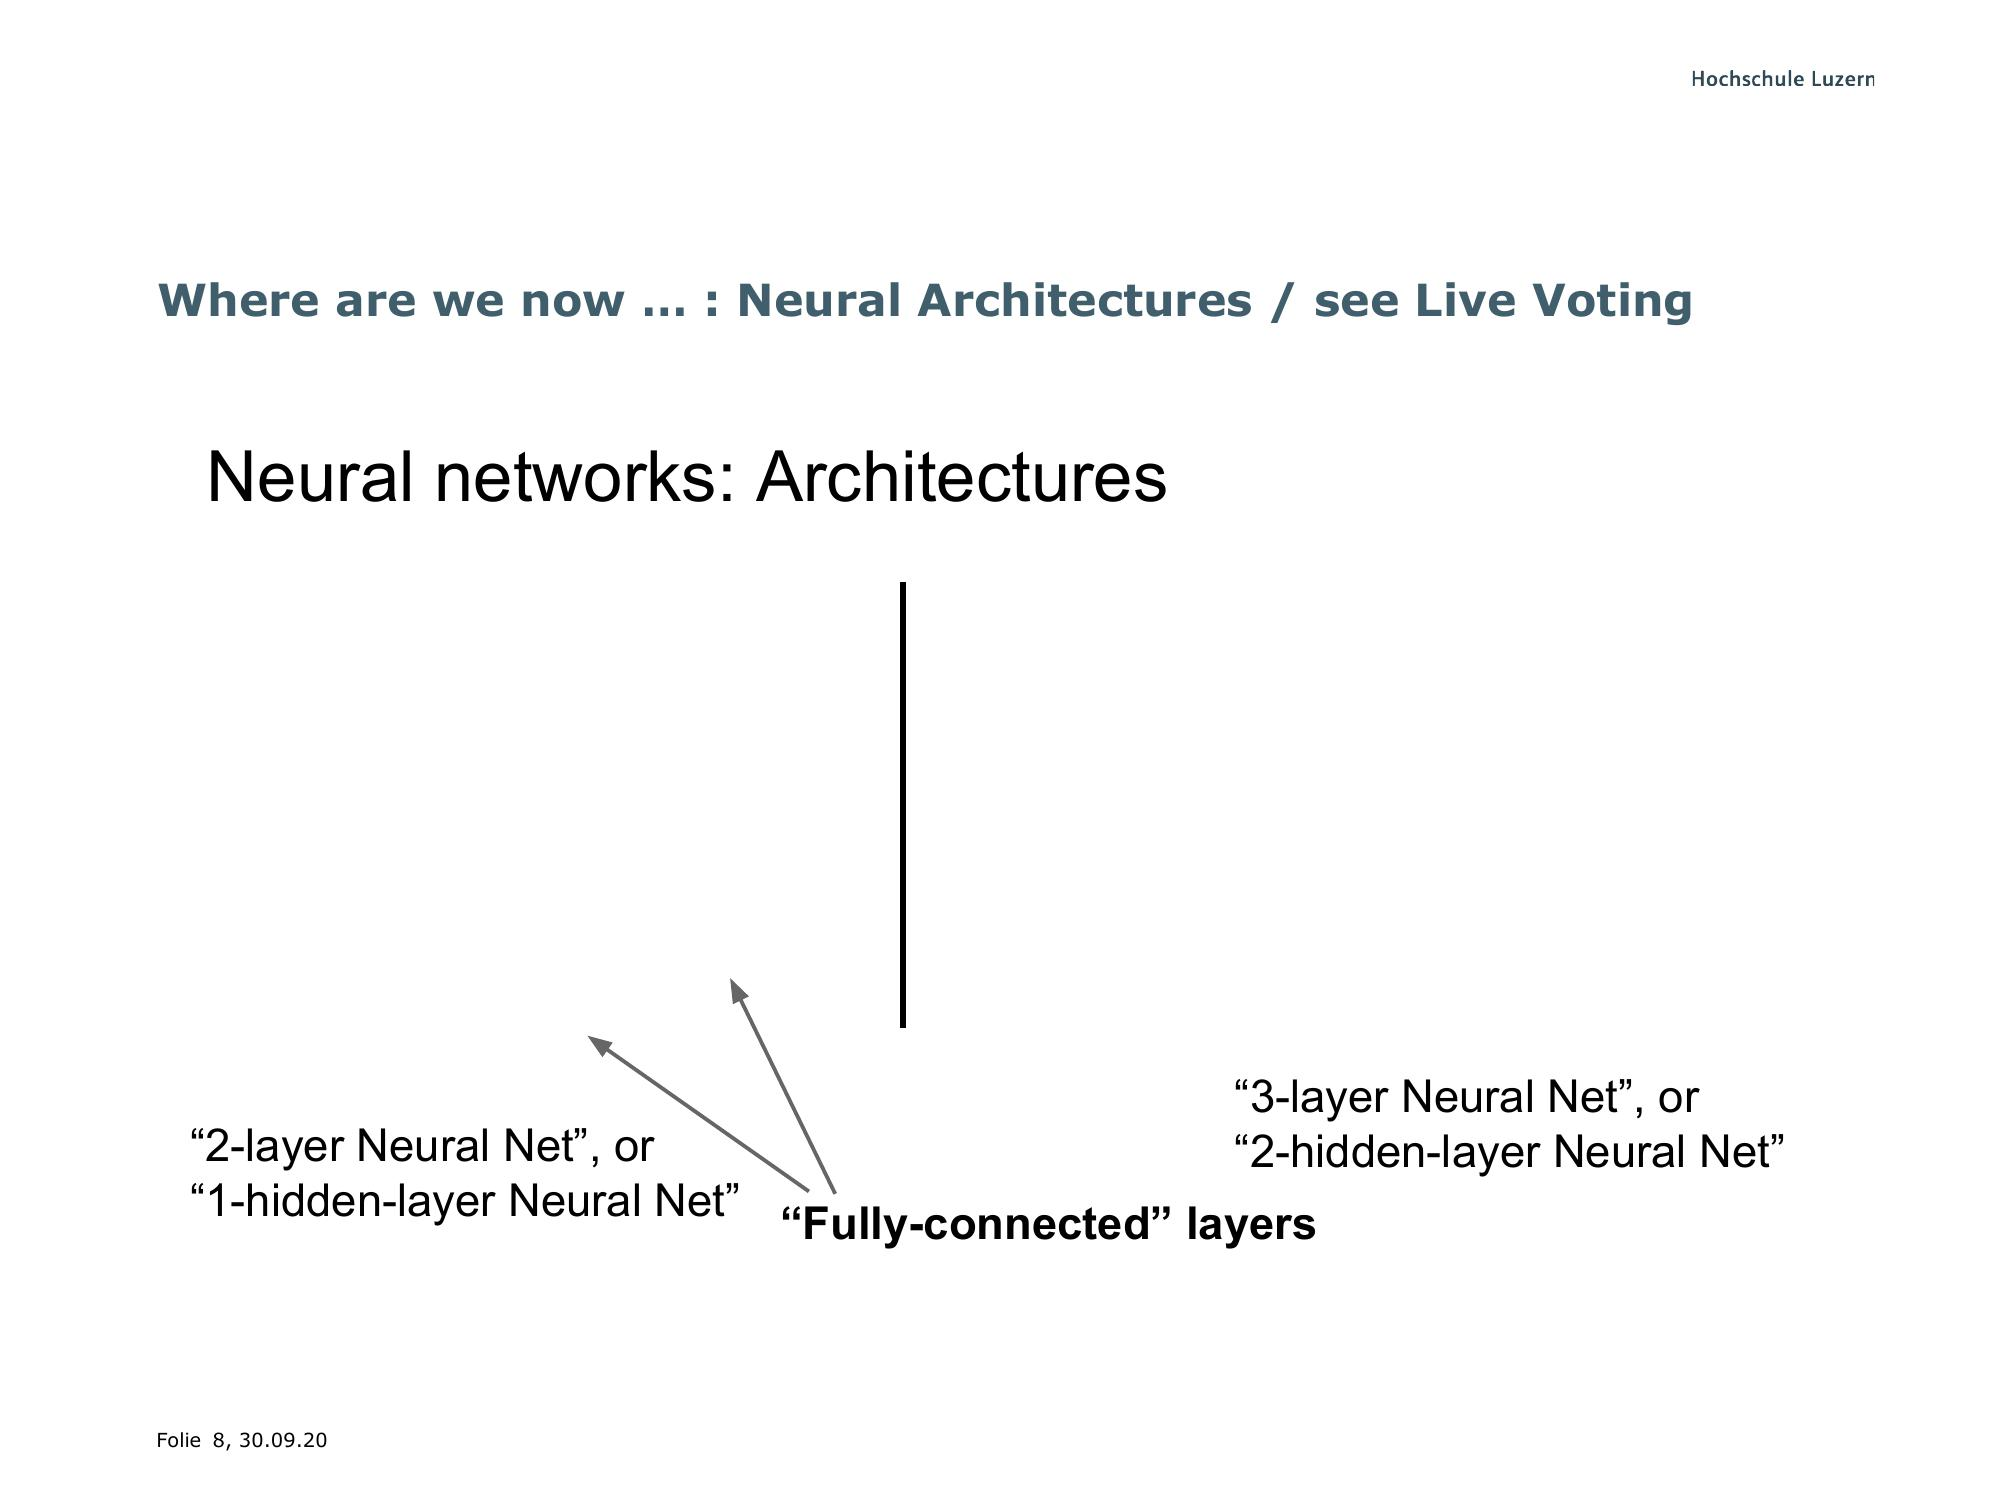Title: (150, 257, 1706, 342)
